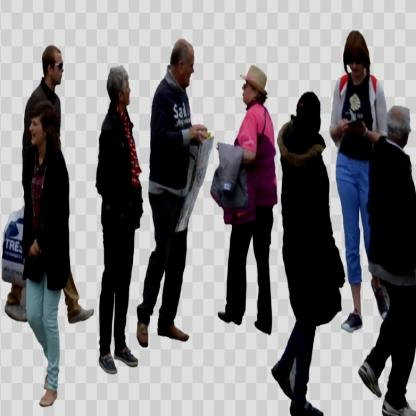jean: (3, 37, 95, 330), (136, 31, 212, 356), (267, 90, 342, 416), (12, 101, 74, 416), (324, 21, 386, 326), (218, 55, 278, 354), (88, 56, 137, 375), (366, 105, 416, 415)
